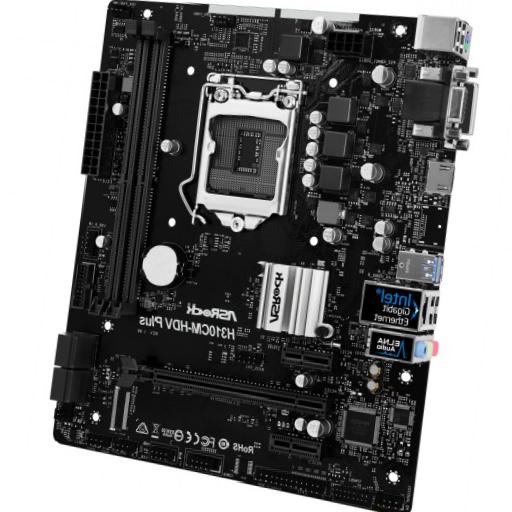CPU: (196, 70, 302, 231)
GPU: (117, 355, 327, 416)
MOTHERBOARD: (54, 5, 475, 510)
RAM: (84, 19, 175, 321)
